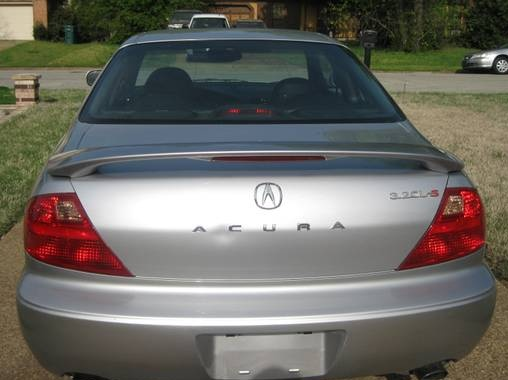acura: (6, 26, 493, 378)
